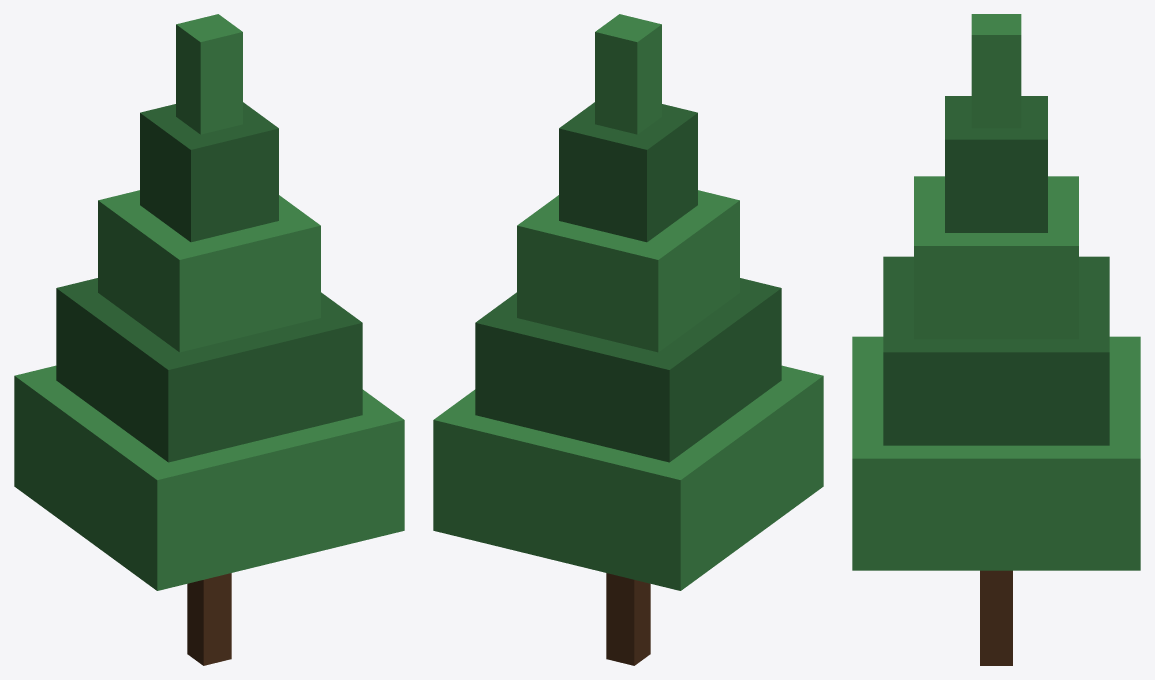
File: pine.glb
3 renders of one model, left to right at view 1: azimuth 30°, elevation 25°; view 2: azimuth 150°, elevation 25°; view 3: azimuth 270°, elevation 25°, orthographic.
Parts seen in each view (by area): view 1: pine; view 2: pine; view 3: pine.
Boxes of the visible parts, x1,y1,x2,y2 form: pine: [14, 14, 404, 665]; pine: [433, 14, 823, 665]; pine: [852, 14, 1140, 665].
Size of the model in its own units: 0.7 by 1.7 by 0.7.
Materials: 1 (1 with a texture image).
